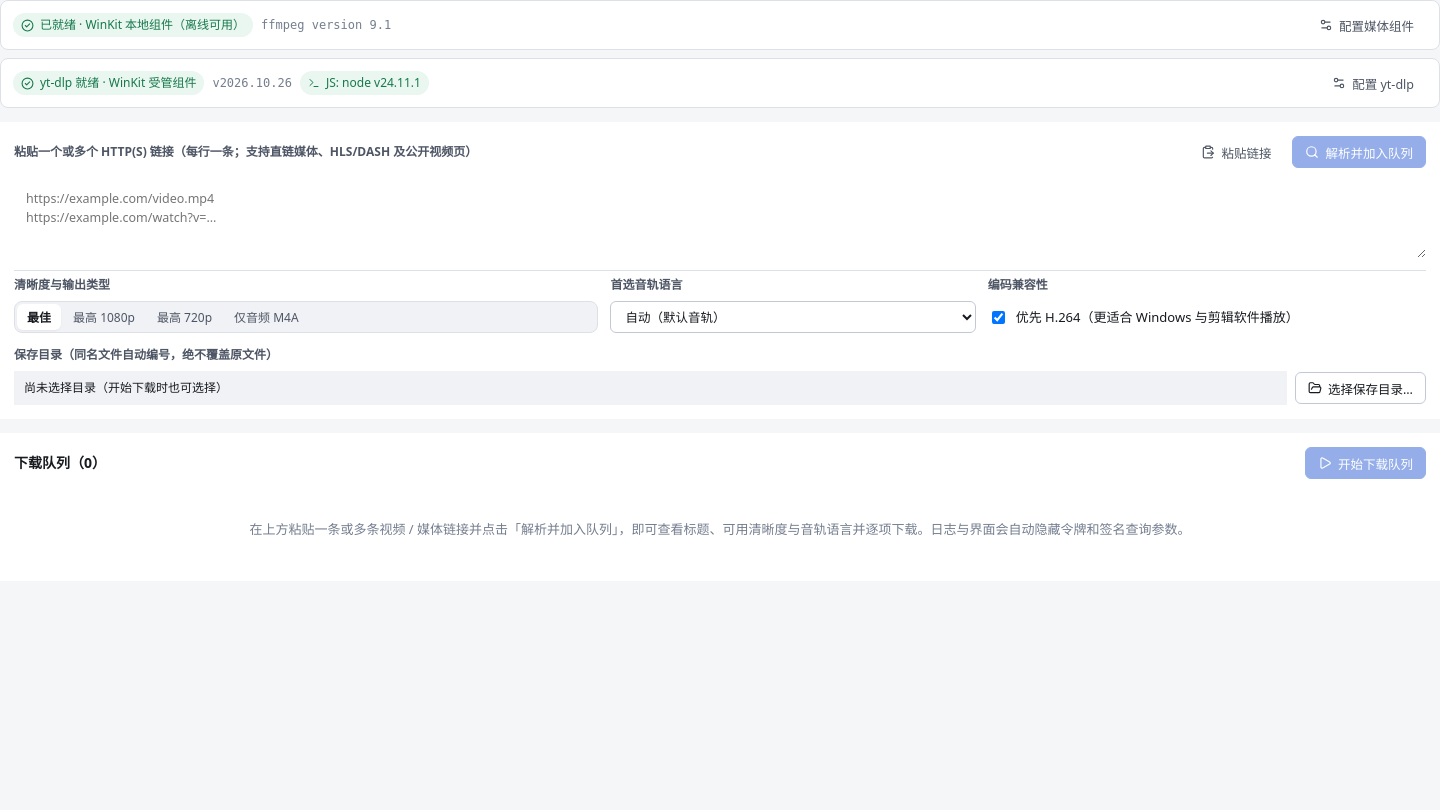
Test: V01 VideoDownloadWorkspace › inspects URL, displays available resolutions/audio languages, and runs download with probed specs
Type "https://example.com/watch?v=demo&token=SECRET999" into the text box labelled "粘贴一个或多个 HTTP(S) 链接（每行一条；支持直链媒体、HLS/DASH 及公开视频页）" at (720, 219), box [14, 180, 1426, 258]
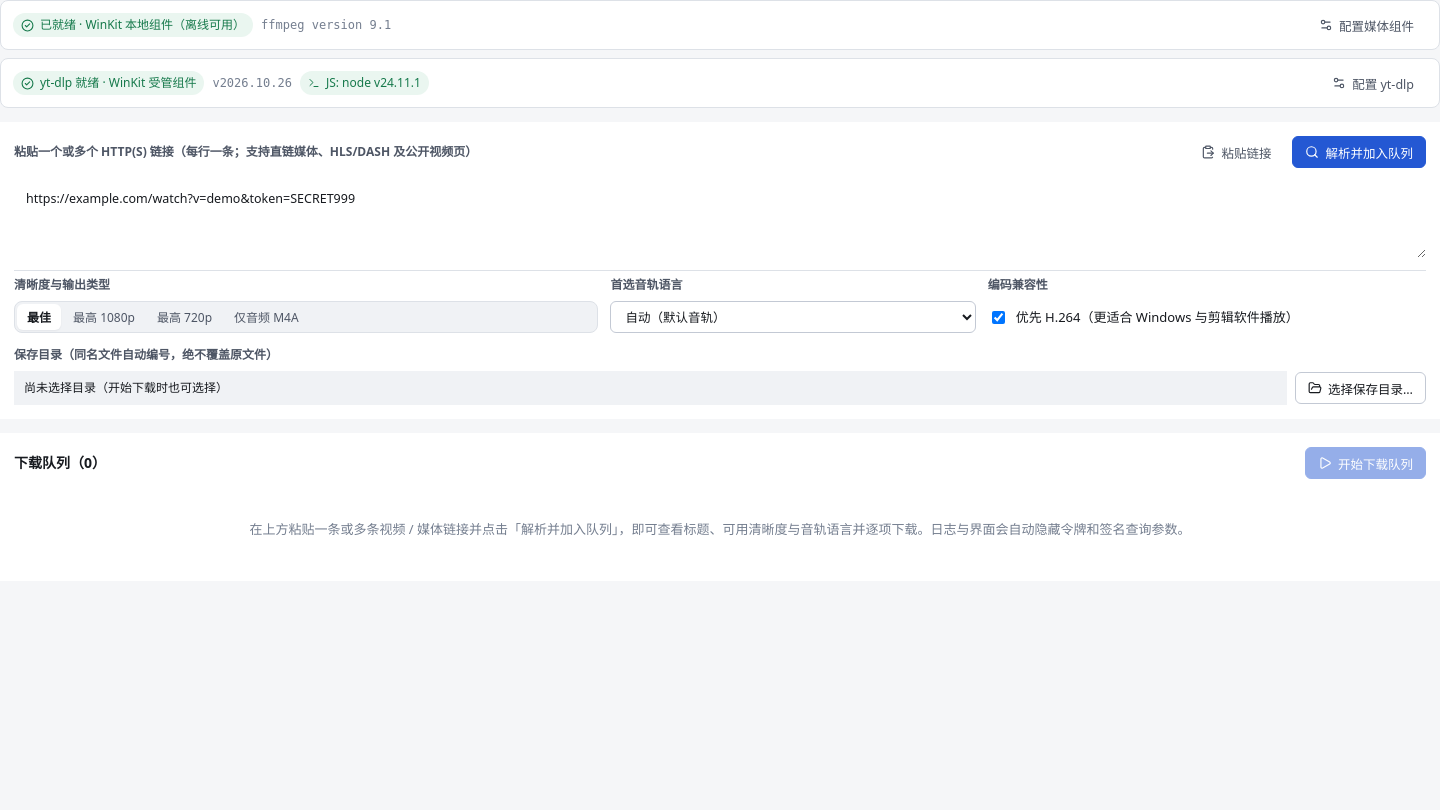
Click the button "解析并加入队列" at (1359, 152), box [1292, 136, 1426, 168]
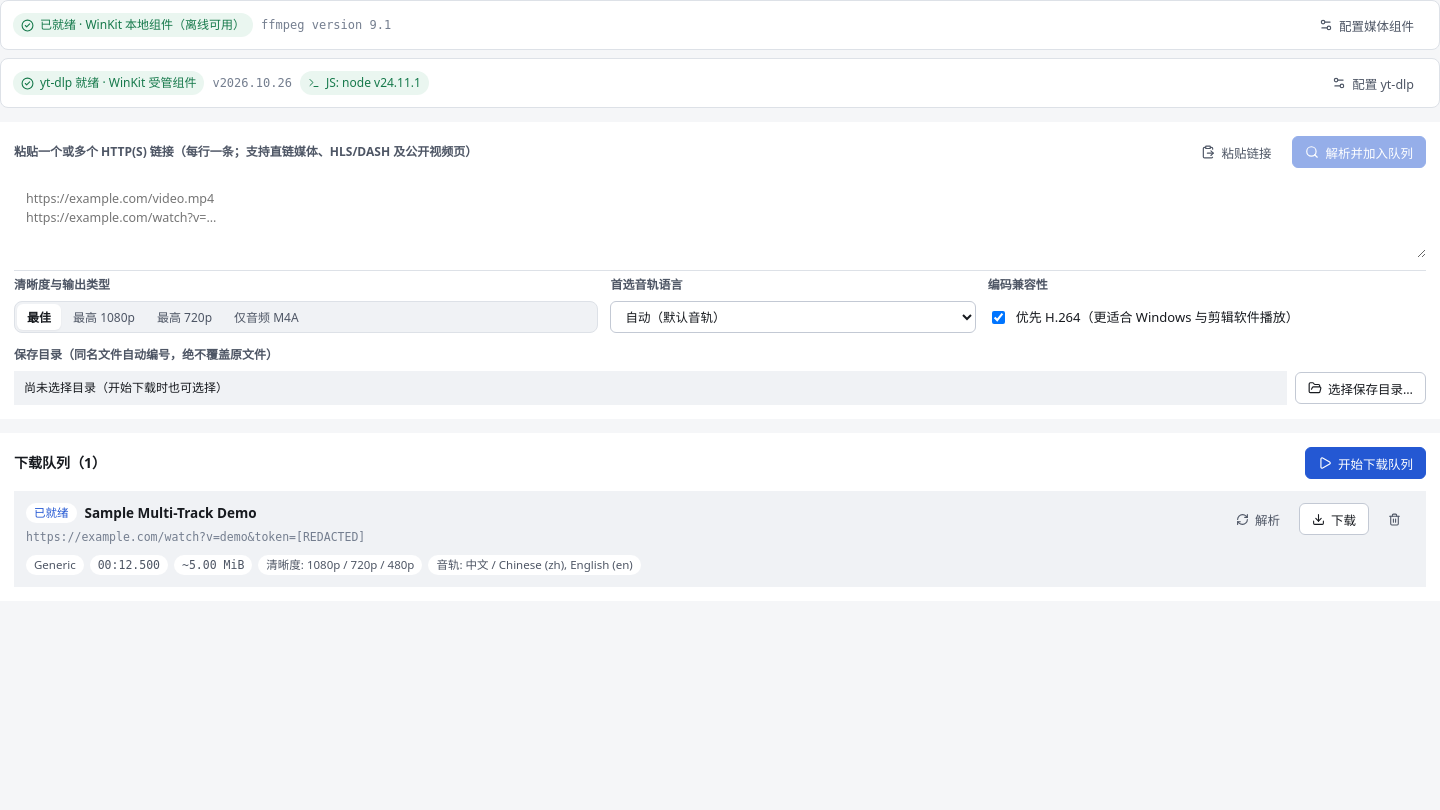
Check: the text "SECRET999" is not shown
Check: the text "Sample Multi-Track Demo" is shown, box [84, 503, 257, 523]
Check: the text "清晰度: 1080p / 720p / 480p" is shown, box [258, 555, 422, 575]
Click the button "最高 720p" at (185, 317), box [147, 304, 222, 330]
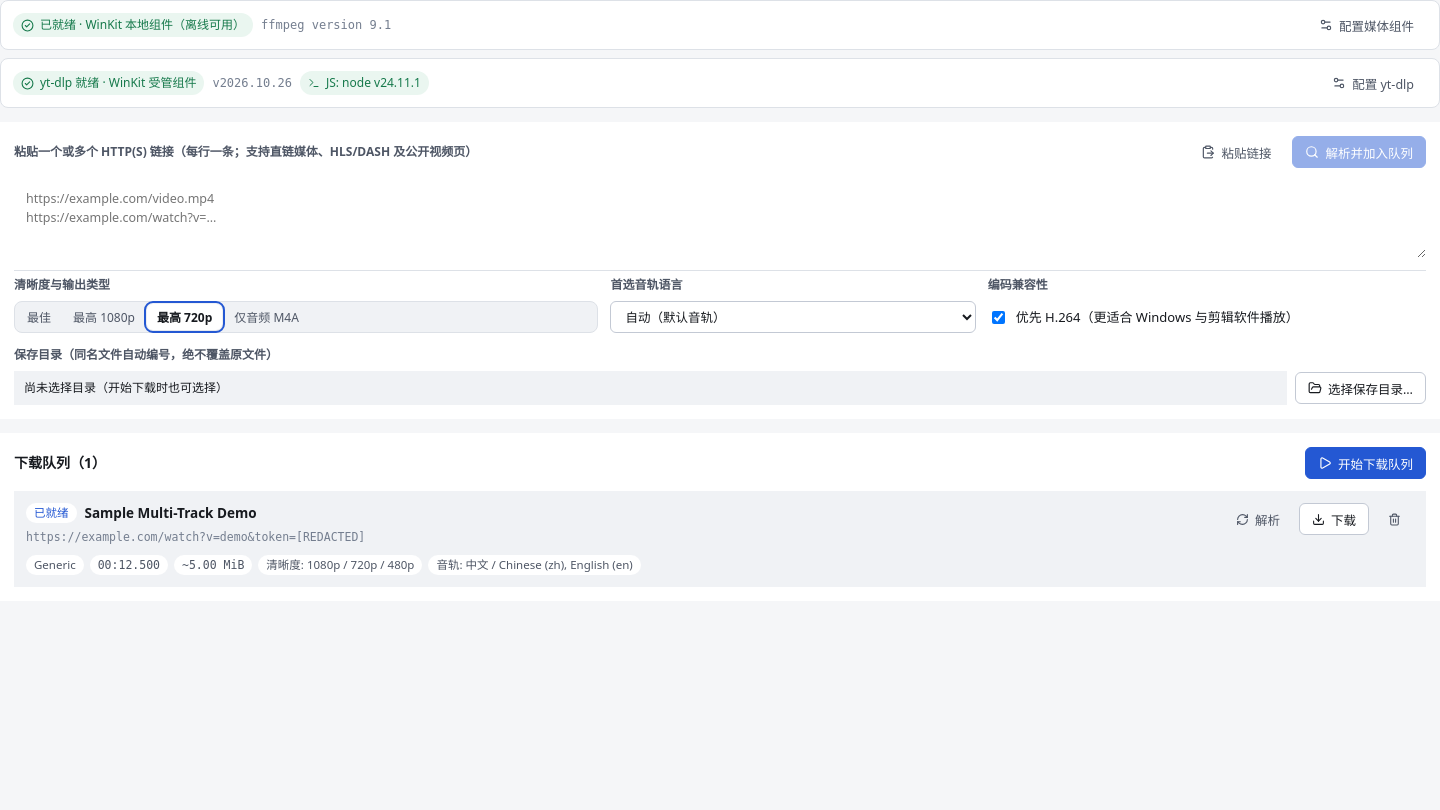
Select "中文 / Chinese (zh)" in the dropdown labelled "首选音轨语言" at (793, 317), box [610, 301, 976, 333]
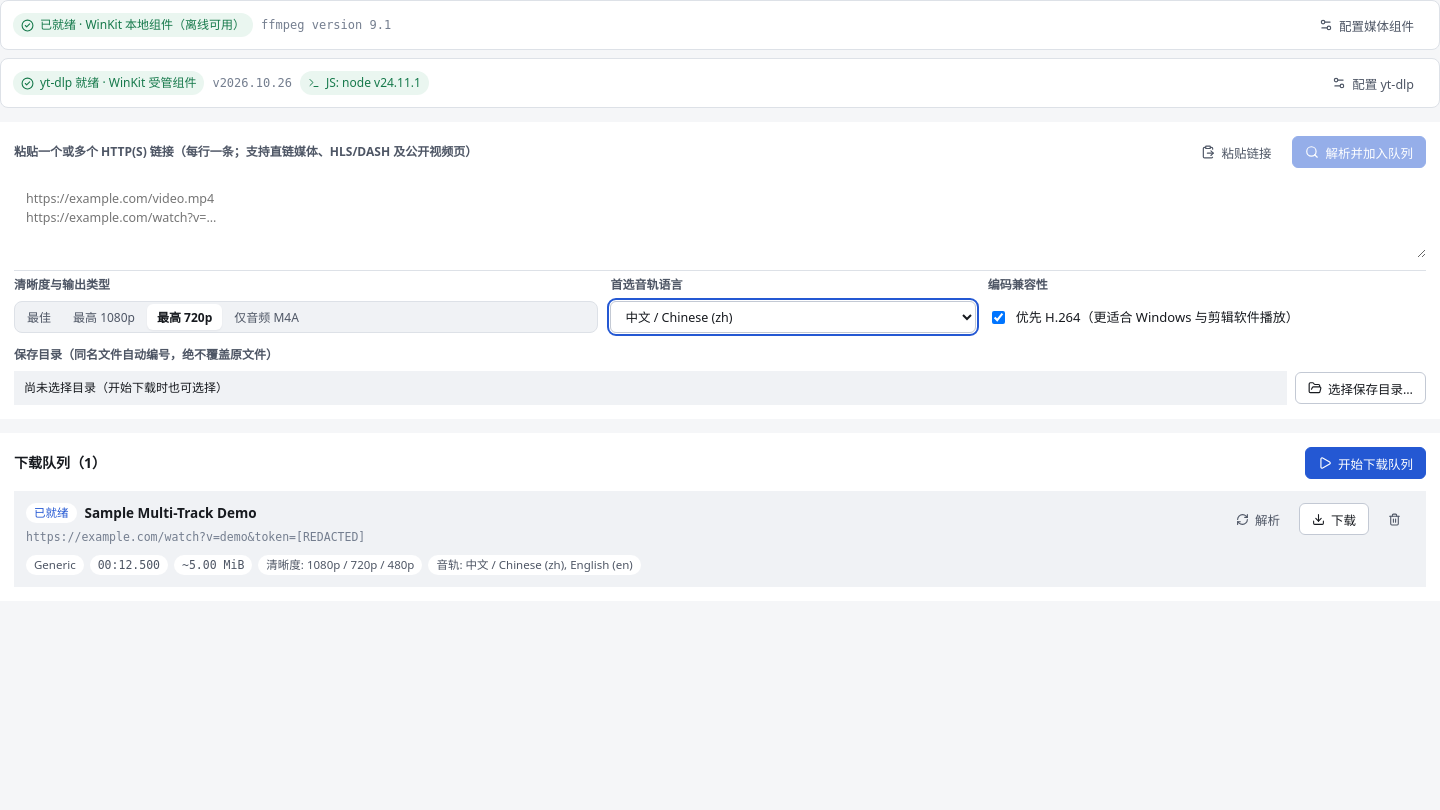
Click the button "开始下载队列" at (1366, 463), box [1305, 447, 1426, 479]
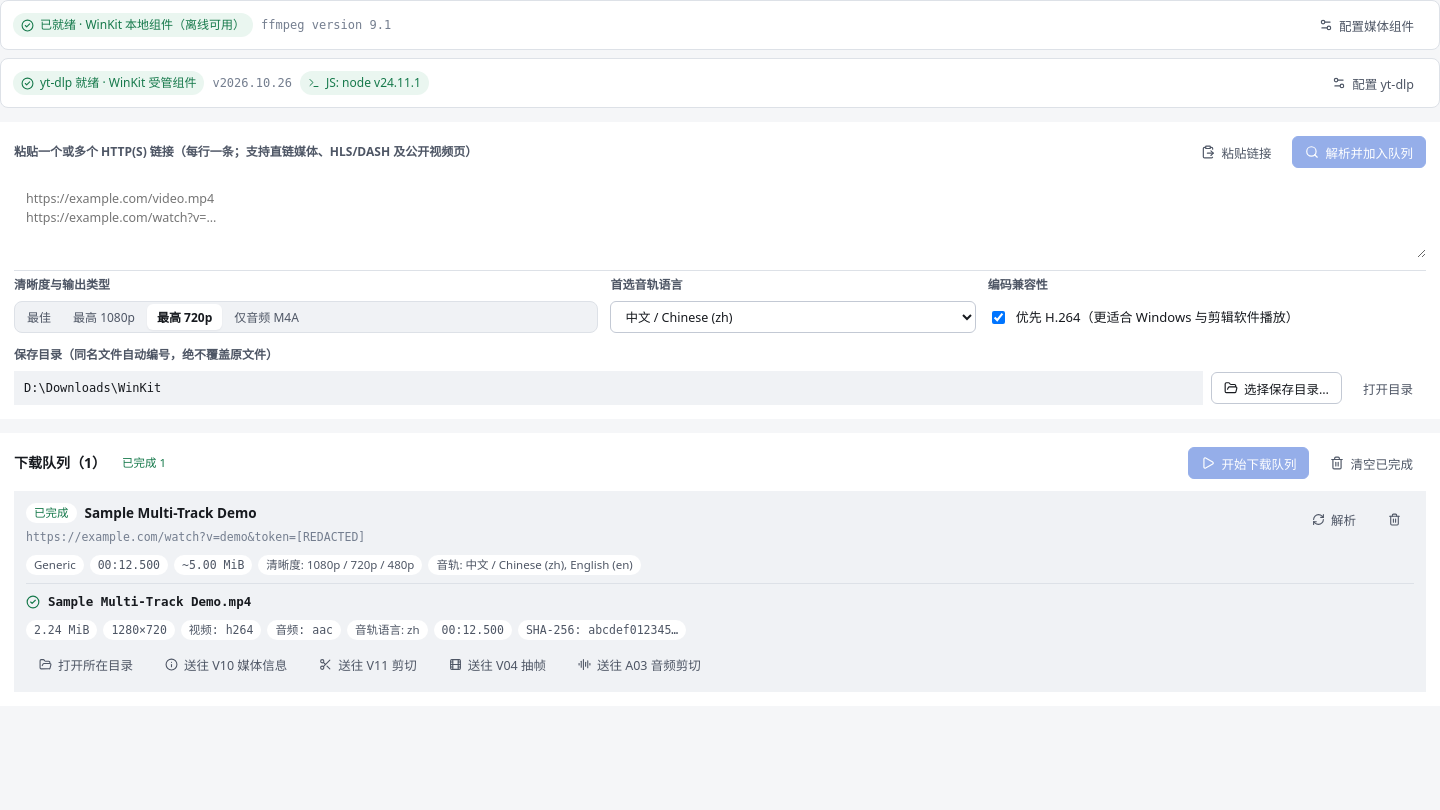
Check: the text "Sample Multi-Track Demo.mp4" is shown, box [48, 592, 251, 612]
Check: the text "1280×720" is shown, box [103, 620, 175, 640]
Check: the text "视频: h264" is shown, box [181, 620, 261, 640]
